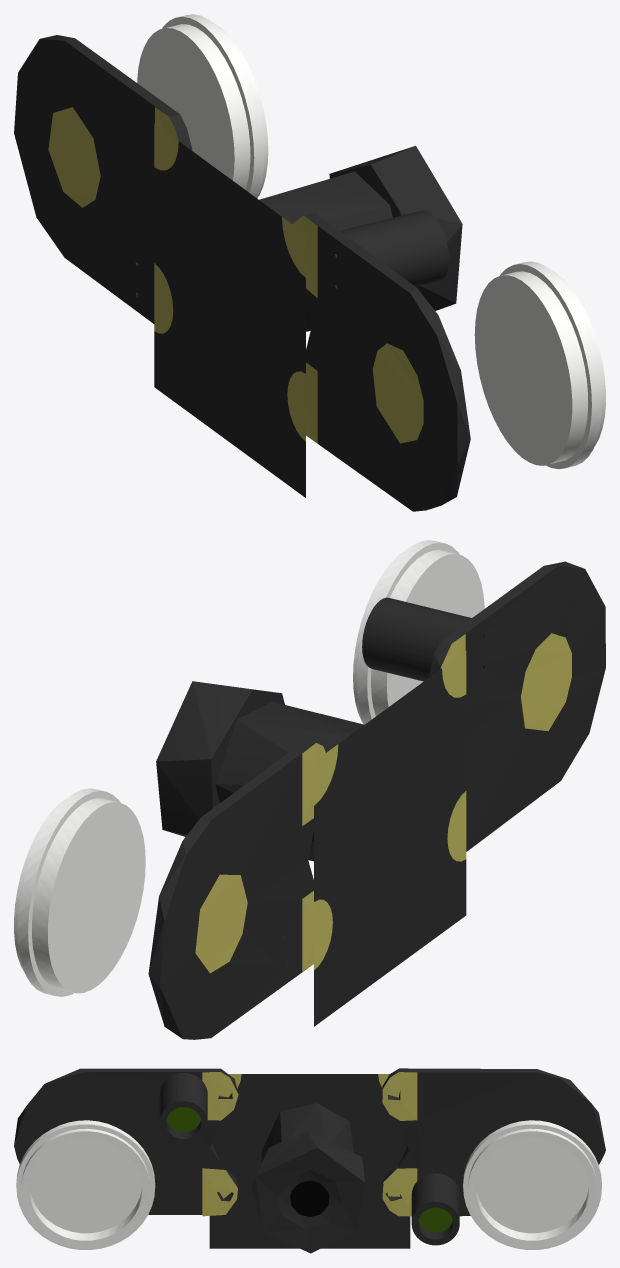
File: ServoTilt_detail.dae
The picture shows the model from 3 angles, top to bottom: view 1: azimuth 30°, elevation 25°; view 2: azimuth 150°, elevation 25°; view 3: azimuth 270°, elevation 25°; orthographic projection. The views are drawn at different scales.
Visible parts, largest first — view 1: Pi_NightVision_Cam_Assembly, Pi_NightVision_Cam_Assembly.018, Pi_NightVision_Cam_Assembly.031, Pi_NightVision_Cam_Assembly.030, Pi_NightVision_Cam_Assembly.043, Pi_NightVision_Cam_Assembly.014, Pi_NightVision_Cam_Assembly.020; view 2: Pi_NightVision_Cam_Assembly, Pi_NightVision_Cam_Assembly.031, Pi_NightVision_Cam_Assembly.018, Pi_NightVision_Cam_Assembly.043, Pi_NightVision_Cam_Assembly.014, Pi_NightVision_Cam_Assembly.030, Pi_NightVision_Cam_Assembly.020; view 3: Pi_NightVision_Cam_Assembly, Pi_NightVision_Cam_Assembly.031, Pi_NightVision_Cam_Assembly.018, Pi_NightVision_Cam_Assembly.043, Pi_NightVision_Cam_Assembly.030, Pi_NightVision_Cam_Assembly.014, Pi_NightVision_Cam_Assembly.033, Pi_NightVision_Cam_Assembly.020, Pi_NightVision_Cam_Assembly.015, Pi_NightVision_Cam_Assembly.021, Pi_NightVision_Cam_Assembly.034.
Part boxes in pixels (x1=…): Pi_NightVision_Cam_Assembly: x1=154, y1=123, x2=305, y2=497; Pi_NightVision_Cam_Assembly.018: x1=293, y1=213, x2=470, y2=511; Pi_NightVision_Cam_Assembly.031: x1=14, y1=35, x2=192, y2=323; Pi_NightVision_Cam_Assembly.030: x1=474, y1=261, x2=605, y2=469; Pi_NightVision_Cam_Assembly.043: x1=137, y1=14, x2=268, y2=198; Pi_NightVision_Cam_Assembly.014: x1=259, y1=145, x2=462, y2=331; Pi_NightVision_Cam_Assembly.020: x1=340, y1=210, x2=448, y2=286; Pi_NightVision_Cam_Assembly: x1=314, y1=651, x2=466, y2=1026; Pi_NightVision_Cam_Assembly.031: x1=148, y1=740, x2=325, y2=1039; Pi_NightVision_Cam_Assembly.018: x1=429, y1=561, x2=605, y2=851; Pi_NightVision_Cam_Assembly.043: x1=14, y1=788, x2=145, y2=996; Pi_NightVision_Cam_Assembly.014: x1=156, y1=681, x2=364, y2=861; Pi_NightVision_Cam_Assembly.030: x1=353, y1=540, x2=484, y2=724; Pi_NightVision_Cam_Assembly.020: x1=362, y1=597, x2=471, y2=681; Pi_NightVision_Cam_Assembly: x1=209, y1=1074, x2=410, y2=1248; Pi_NightVision_Cam_Assembly.031: x1=382, y1=1068, x2=605, y2=1216; Pi_NightVision_Cam_Assembly.018: x1=14, y1=1068, x2=238, y2=1216; Pi_NightVision_Cam_Assembly.043: x1=463, y1=1120, x2=601, y2=1249; Pi_NightVision_Cam_Assembly.030: x1=16, y1=1120, x2=155, y2=1249; Pi_NightVision_Cam_Assembly.014: x1=251, y1=1103, x2=365, y2=1253; Pi_NightVision_Cam_Assembly.033: x1=411, y1=1173, x2=459, y2=1245; Pi_NightVision_Cam_Assembly.020: x1=159, y1=1073, x2=207, y2=1144; Pi_NightVision_Cam_Assembly.015: x1=290, y1=1180, x2=329, y2=1216; Pi_NightVision_Cam_Assembly.021: x1=166, y1=1107, x2=200, y2=1132; Pi_NightVision_Cam_Assembly.034: x1=418, y1=1207, x2=452, y2=1232.
Size of the model in its own units: 0.0182 by 0.0738 by 0.025.
